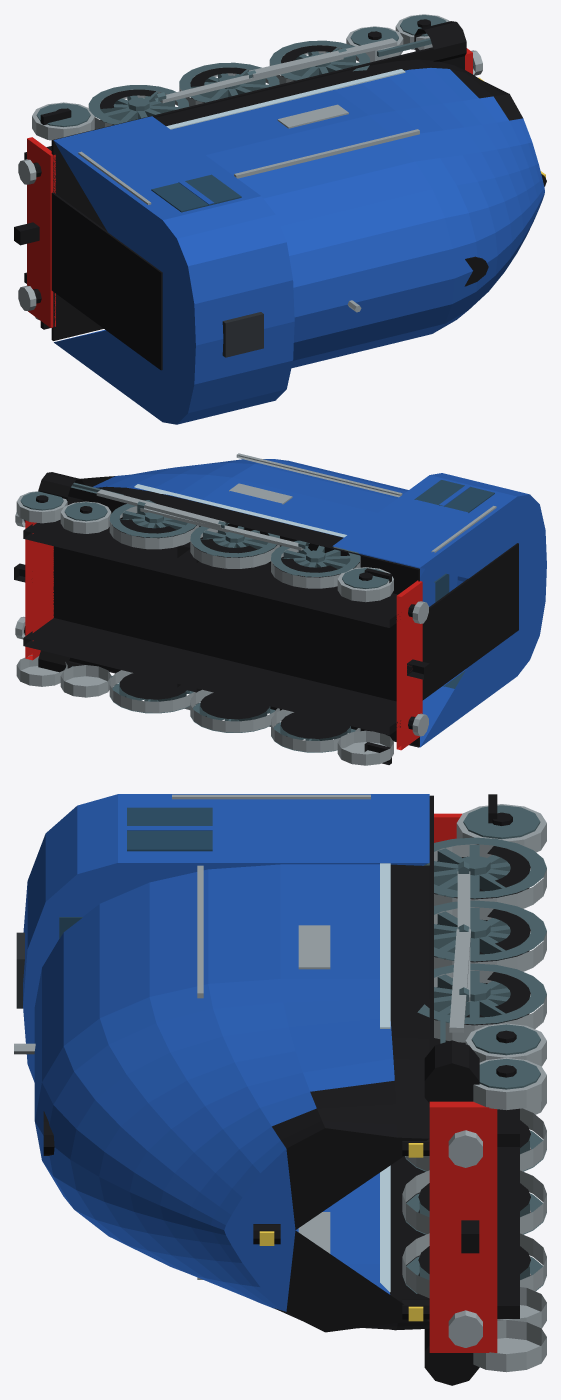
3 renders of one model, top to bottom at view 1: azimuth 30°, elevation 25°; view 2: azimuth 150°, elevation 25°; view 3: azimuth 270°, elevation 25°, orthographic. The views are drawn at different scales.
Visible parts, largest first — view 1: casing, cab, cab_door, floor, beam_back, driver_0_1, driver_1_1, driver_2_1, cab_window_1, trailing_1, roof_vent, buffers_back (+8 smaller); view 2: floor, cab, casing, frame_-1, frame_1, cab_door, beam_back, driver_1_-1, beam_front, driver_0_-1, driver_0_1, driver_2_-1 (+18 smaller); view 3: casing, cab, beam_front, driver_0_1, driver_1_1, driver_2_1, frame_-1, cab_window_1, bogie_1_1, trailing_1, cylinder_1, driver_1_-1 (+20 smaller).
Part boxes in pixels (<box>): casing: <box>154,59,544,368</box>; cab: <box>53,116,294,424</box>; cab_door: <box>51,192,162,370</box>; floor: <box>51,47,464,340</box>; beam_back: <box>27,137,55,327</box>; driver_0_1: <box>88,85,189,129</box>; driver_1_1: <box>179,62,279,106</box>; driver_2_1: <box>269,40,370,84</box>; cab_window_1: <box>151,174,241,212</box>; trailing_1: <box>32,102,94,140</box>; roof_vent: <box>222,312,263,357</box>; buffers_back: <box>14,159,41,310</box>; floor: <box>53,487,419,747</box>; cab: <box>332,473,546,747</box>; casing: <box>80,459,424,577</box>; frame_-1: <box>23,618,400,735</box>; frame_1: <box>23,519,398,627</box>; cab_door: <box>422,543,518,700</box>; beam_back: <box>396,580,422,750</box>; driver_1_-1: <box>190,689,279,732</box>; beam_front: <box>25,520,53,660</box>; driver_0_-1: <box>271,709,360,752</box>; driver_0_1: <box>271,540,360,588</box>; driver_2_-1: <box>109,670,198,713</box>; casing: <box>34,864,429,1332</box>; cab: <box>23,794,429,1082</box>; beam_front: <box>429,1101,497,1352</box>; driver_0_1: <box>423,837,546,908</box>; driver_1_1: <box>434,900,546,971</box>; driver_2_1: <box>417,963,546,1042</box>; frame_-1: <box>497,1147,519,1318</box>; cab_window_1: <box>127,807,212,851</box>; bogie_1_1: <box>473,1058,546,1110</box>; trailing_1: <box>456,804,546,857</box>; cylinder_1: <box>424,1040,479,1103</box>; driver_1_-1: <box>402,1170,546,1234</box>.
Size of the model in its own units: 8.4 by 3.94 by 5.9.
